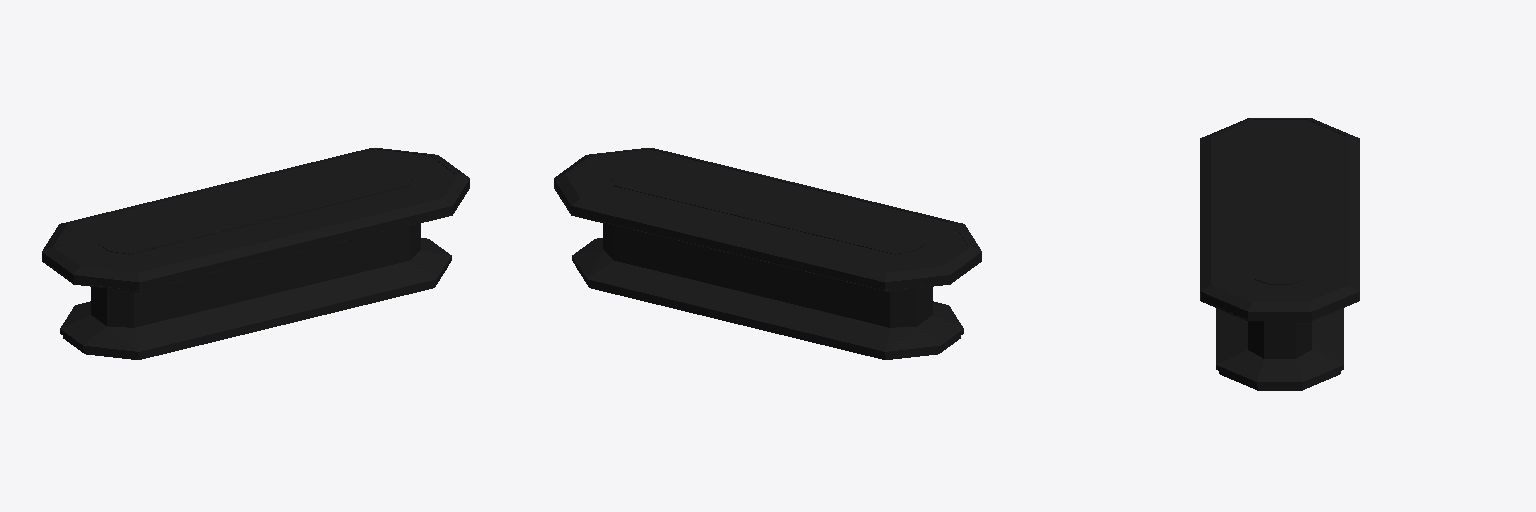
Rendered from briefingroom_table.obj.
3 views of the same model, side by side, from view 1: azimuth 30°, elevation 25°; view 2: azimuth 150°, elevation 25°; view 3: azimuth 270°, elevation 25° (orthographic).
Visible parts, largest first — view 1: Briefingroom_Table_LP_Export; view 2: Briefingroom_Table_LP_Export; view 3: Briefingroom_Table_LP_Export.
Boxes of the visible parts, box(x1,y1,x2,y2) form: Briefingroom_Table_LP_Export: box(42, 148, 469, 359); Briefingroom_Table_LP_Export: box(554, 148, 981, 359); Briefingroom_Table_LP_Export: box(1200, 118, 1359, 390).
Bounding box in the file's own units: 52.43 × 11.58 × 18.29.